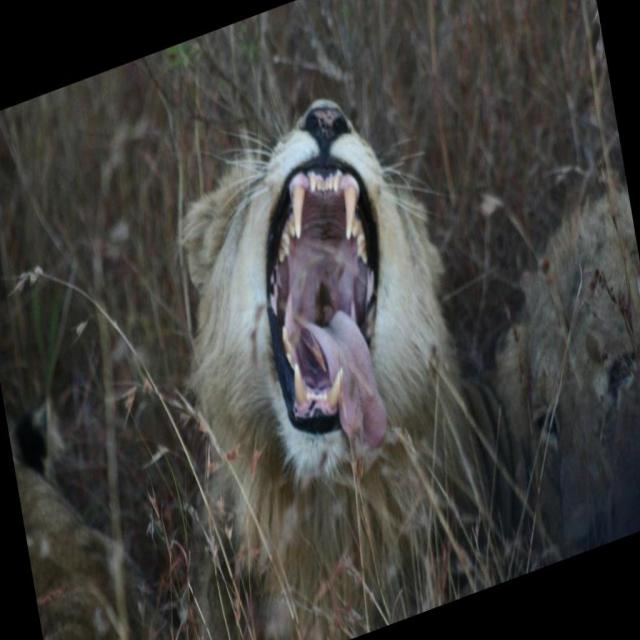Lion: (138, 24, 520, 639)
